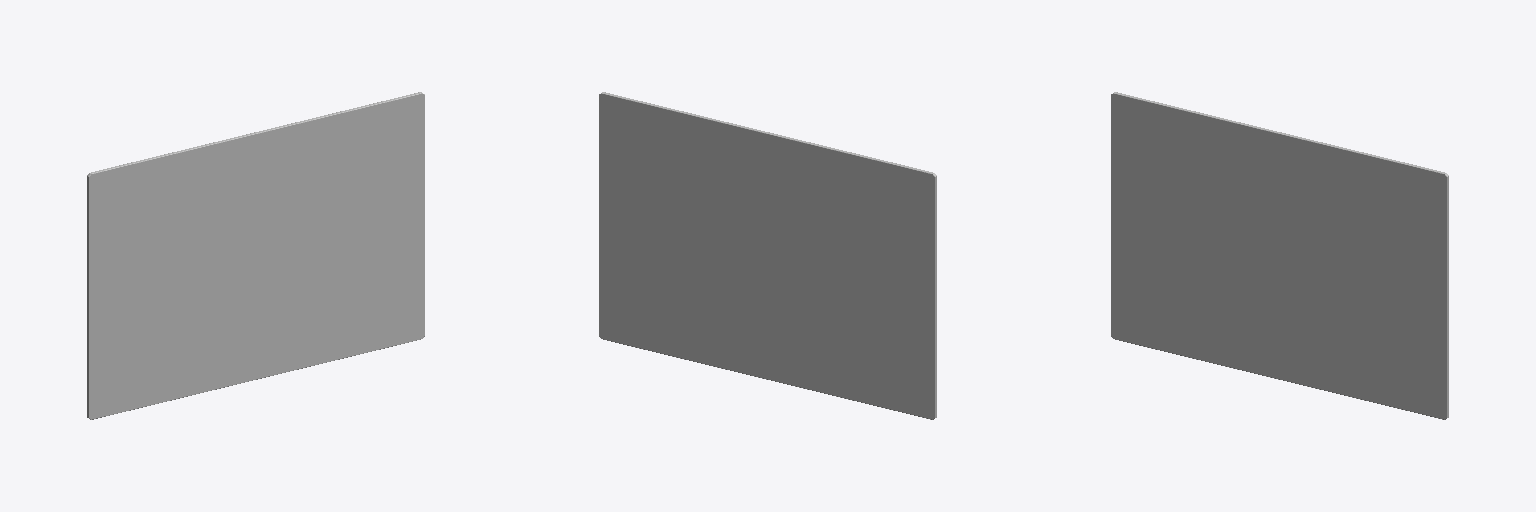
Rendered from bed_glass_210x300.obj.
3 views of the same model, side by side, from view 1: azimuth 30°, elevation 25°; view 2: azimuth 150°, elevation 25°; view 3: azimuth 330°, elevation 25° (orthographic).
Visible parts, largest first — view 1: Object.1; view 2: Object.1; view 3: Object.1.
Part boxes in pixels (left/top/right/bottom): Object.1: left=87, top=92, right=424, bottom=419; Object.1: left=599, top=92, right=936, bottom=419; Object.1: left=1111, top=92, right=1448, bottom=419.
Bounding box in the file's own units: 300 × 210 × 3.